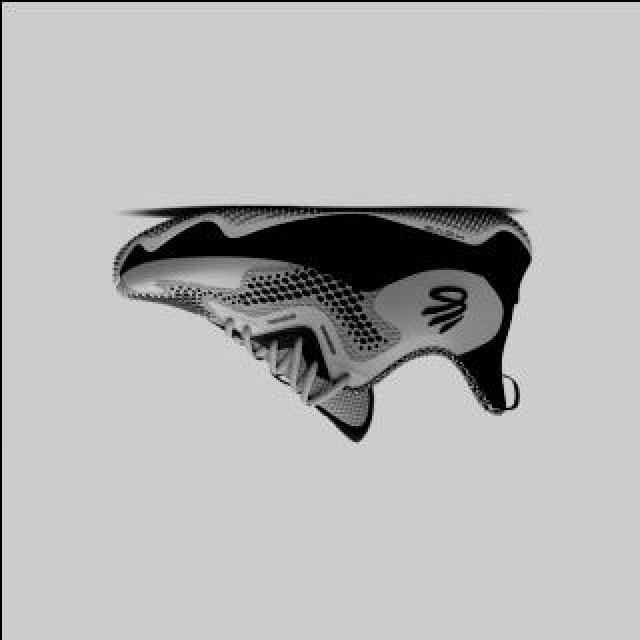shoe: (108, 204, 528, 444)
